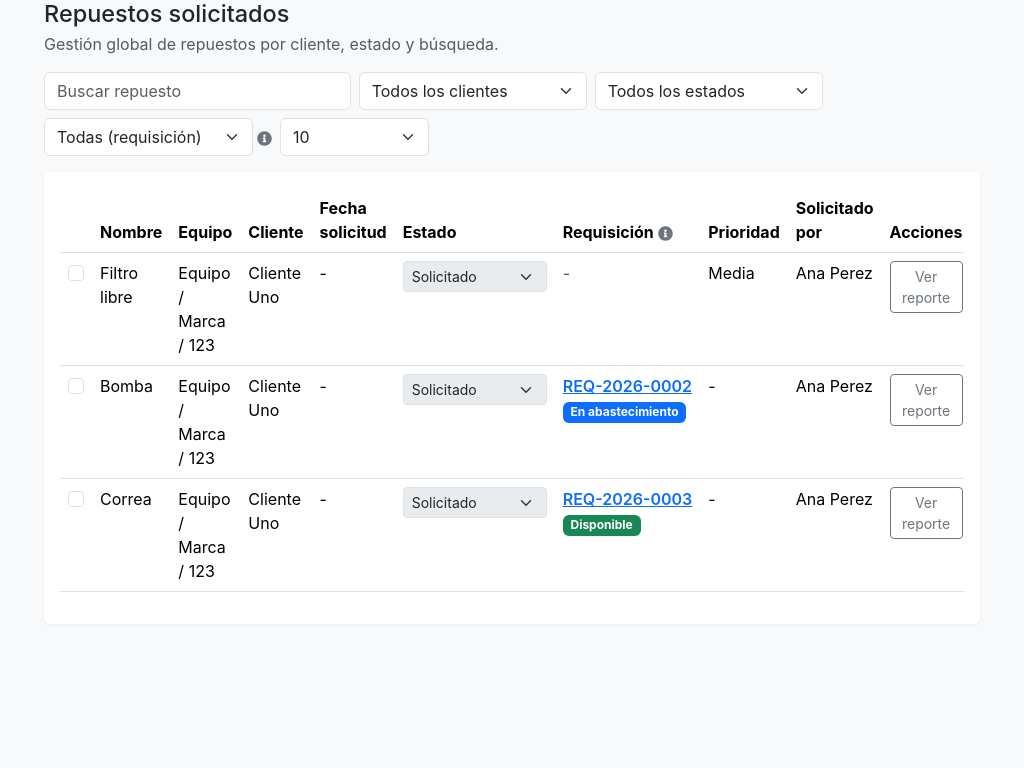
Scenario: RepuestosSolicitadosPage (module on) › lets a manage-all user skip the requisition with a mandatory reason
Click the checkbox in the row of "Media" at (76, 273), box [68,265,84,281]
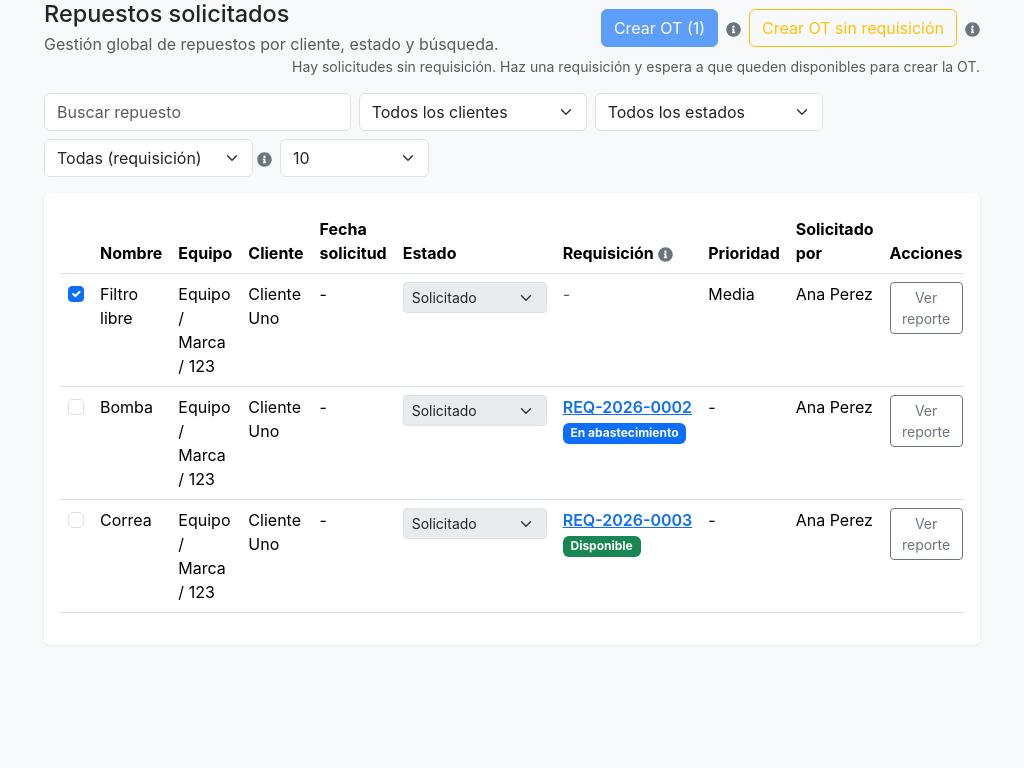
Click the button "Crear OT sin requisición" at (853, 28), box [749,9,957,47]
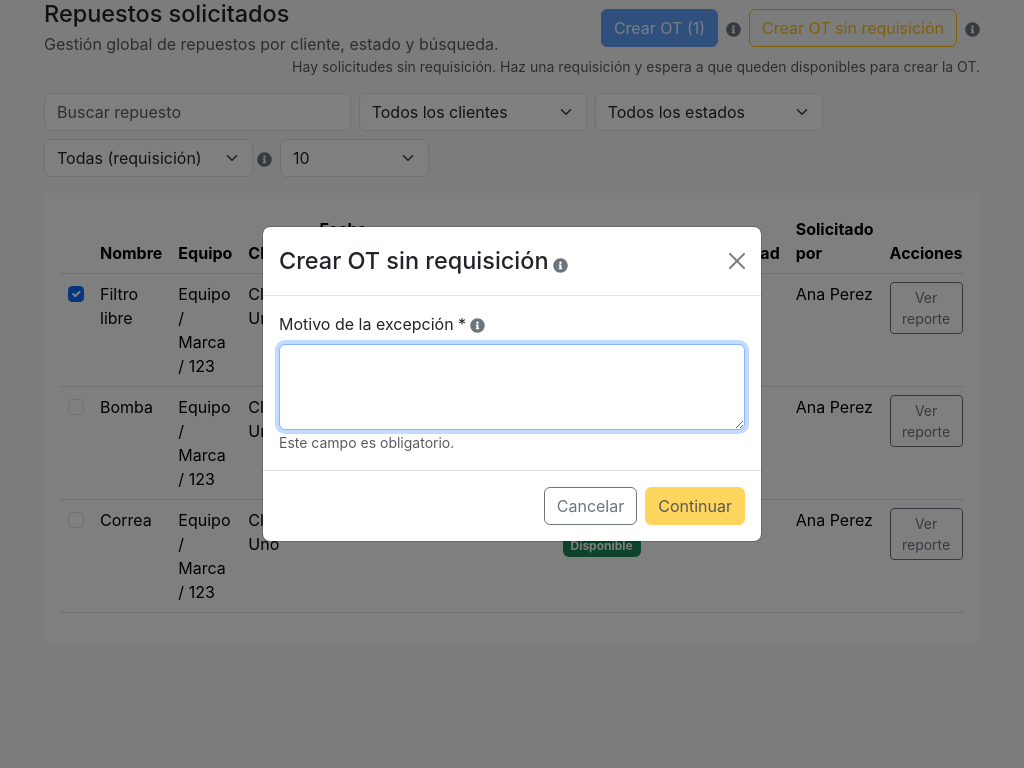
Check: the button "Continuar" is disabled, box [645,487,745,525]
Type "Urgencia en planta" into the text box labelled "Motivo de la excepción *" at (512, 387), box [279,344,745,430]
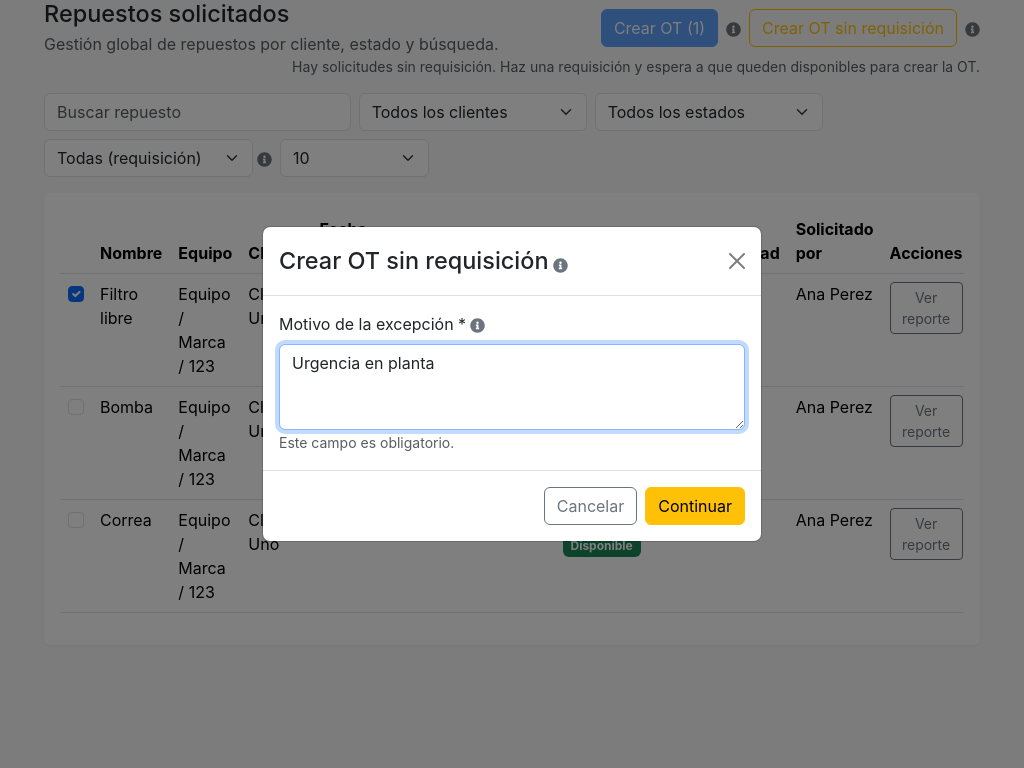
Check: the button "Continuar" is enabled, box [645,487,745,525]
